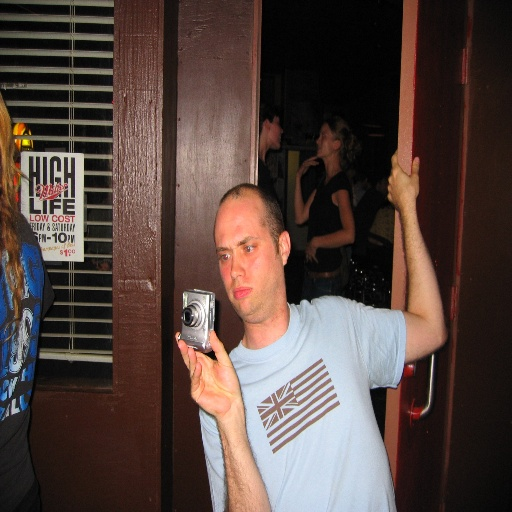hand: (174, 327, 243, 419), (387, 147, 423, 227), (295, 155, 319, 179), (304, 236, 318, 264)
